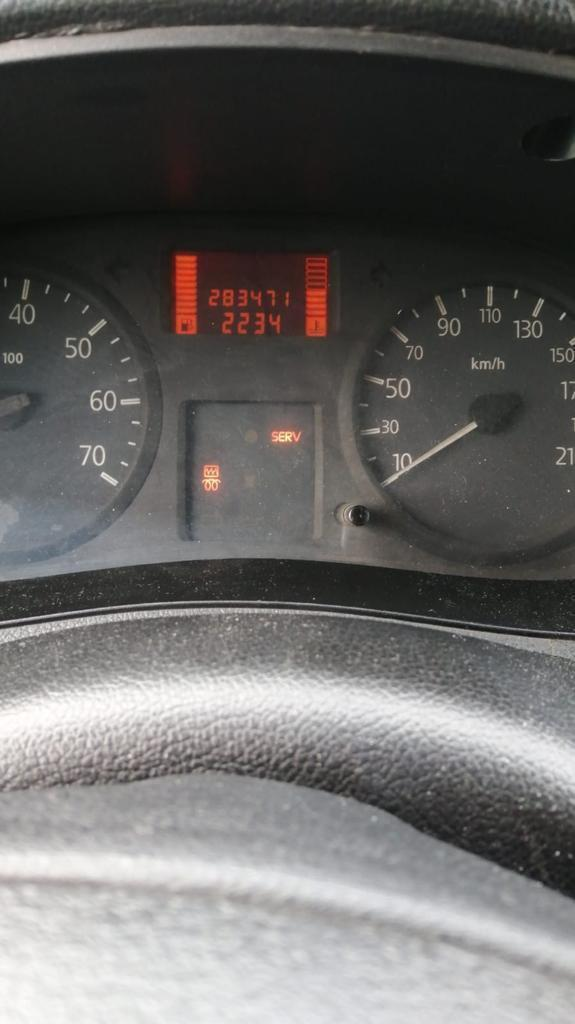1: (284, 290, 291, 307)
2: (221, 311, 235, 335), (237, 310, 250, 334), (209, 288, 220, 306)
3: (253, 311, 266, 335), (237, 287, 247, 306)
4: (268, 313, 282, 335), (249, 287, 263, 307)
7: (266, 288, 278, 308)
8: (222, 288, 234, 307)
odometer: (160, 246, 335, 341)
